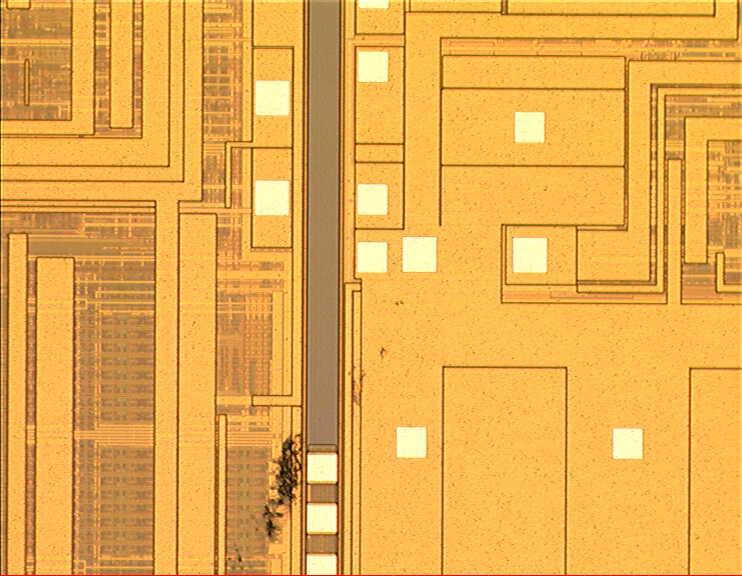SCRATCH: (209, 340, 399, 576)
